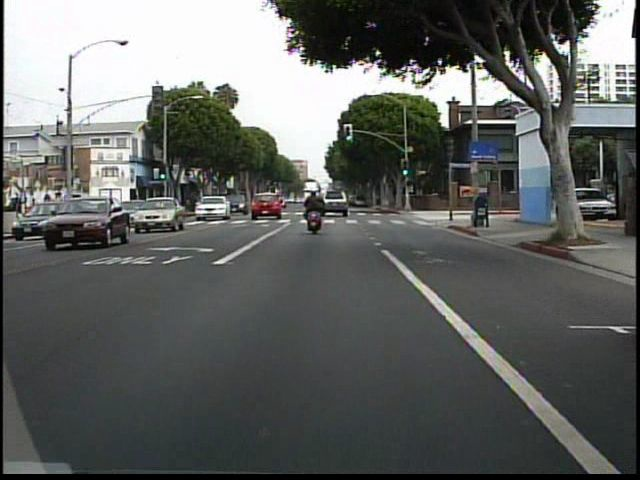person: (301, 185, 329, 237)
